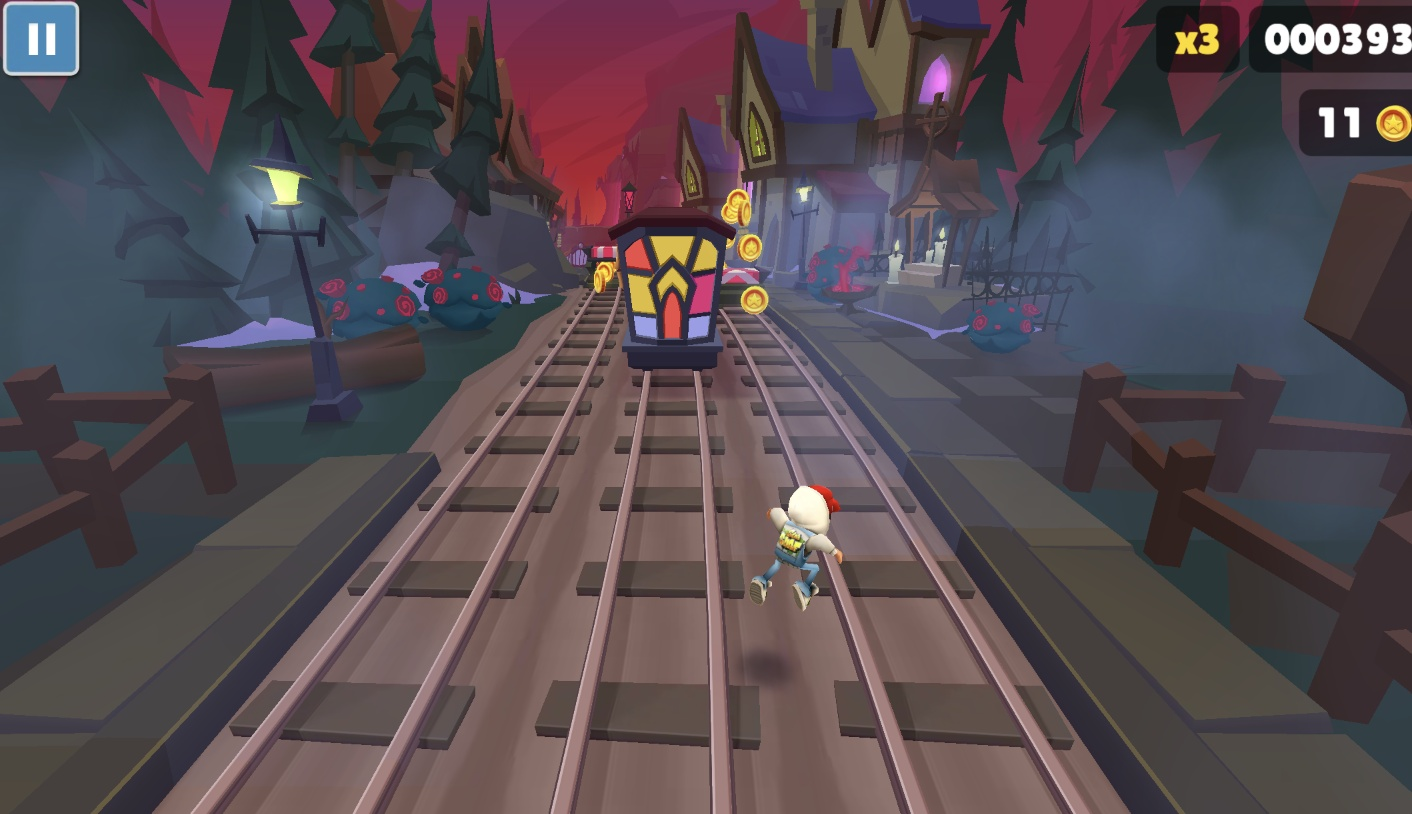ground_barrier: (582, 247, 617, 292), (728, 273, 764, 304)
train: (607, 208, 737, 373)
